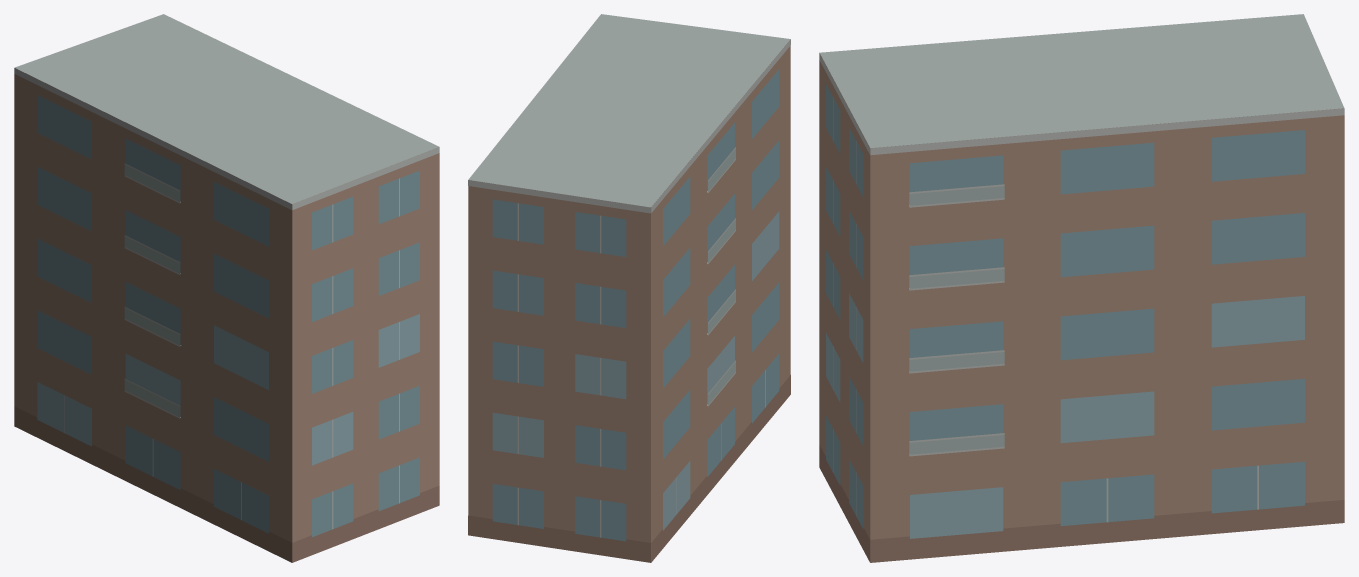
The model's file is survey-upis-32697694.glb.
The picture shows the model from 3 angles, left to right: view 1: azimuth 30°, elevation 25°; view 2: azimuth 150°, elevation 25°; view 3: azimuth 270°, elevation 25°; orthographic projection. The views are drawn at different scales.
Visible parts, largest first — view 1: survey-upis-32697694.tmp; view 2: survey-upis-32697694.tmp; view 3: survey-upis-32697694.tmp.
Part boxes in pixels (x1,y1,x2,y2): survey-upis-32697694.tmp: (14, 14, 439, 562); survey-upis-32697694.tmp: (468, 14, 790, 562); survey-upis-32697694.tmp: (819, 14, 1344, 562).
Size of the model in its own units: 10 by 14.4 by 16.54.
